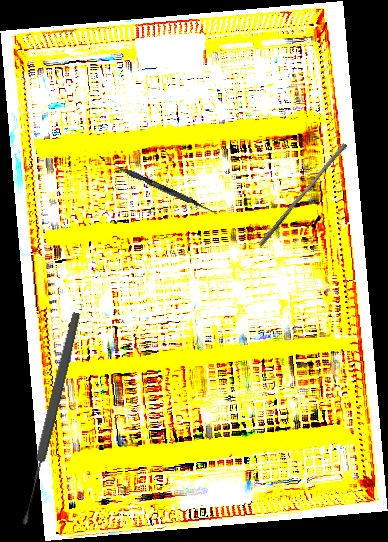Pusher: (258, 139, 348, 251)
Spatula Surgical: (96, 155, 219, 216)
Surgical Spoon: (17, 311, 83, 526)
